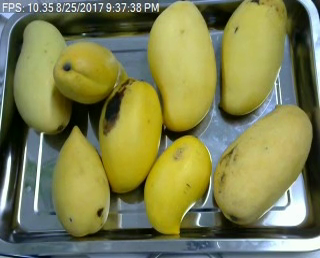Mango: (205, 101, 313, 225), (146, 1, 219, 135), (215, 0, 289, 123), (94, 74, 165, 192), (43, 120, 114, 236), (12, 16, 77, 136), (140, 126, 208, 236), (53, 36, 127, 106)
